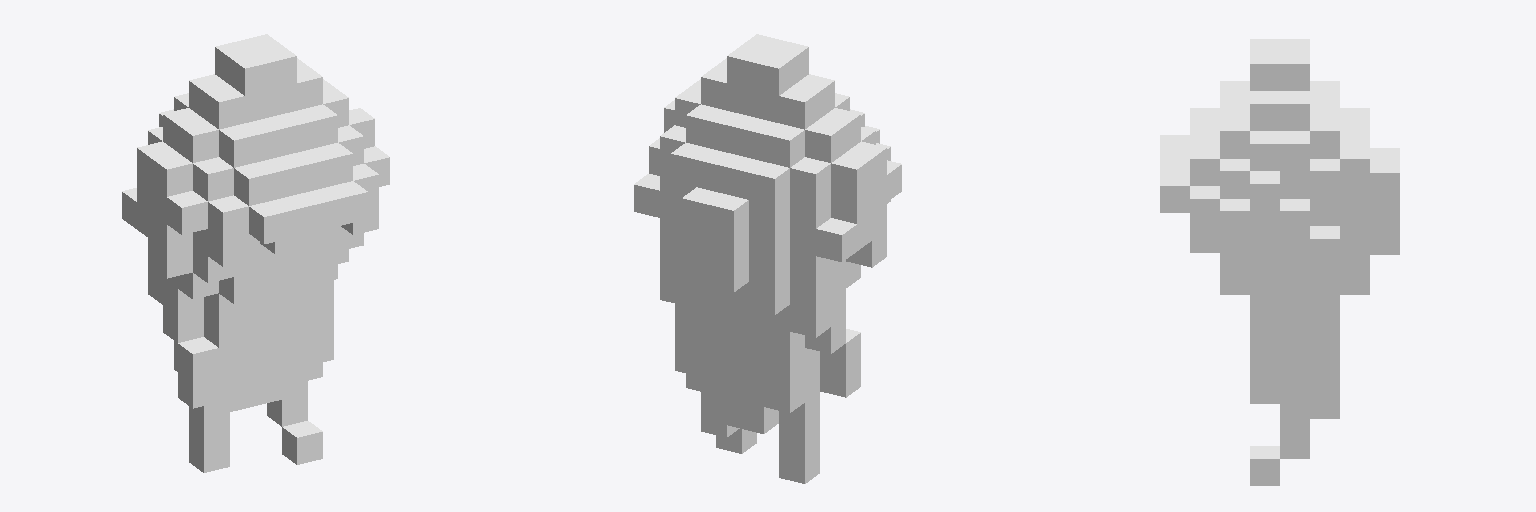
The model's file is JumpBack2.obj.
3 renders of one model, left to right at view 1: azimuth 30°, elevation 25°; view 2: azimuth 150°, elevation 25°; view 3: azimuth 270°, elevation 25°, orthographic.
Visible parts, largest first — view 1: JumpBack2; view 2: JumpBack2; view 3: JumpBack2.
Boxes of the visible parts, <box> form: JumpBack2: <box>122,34,389,472</box>; JumpBack2: <box>634,34,901,483</box>; JumpBack2: <box>1160,39,1399,485</box>.
Size of the model in its own units: 8 by 15 by 8.